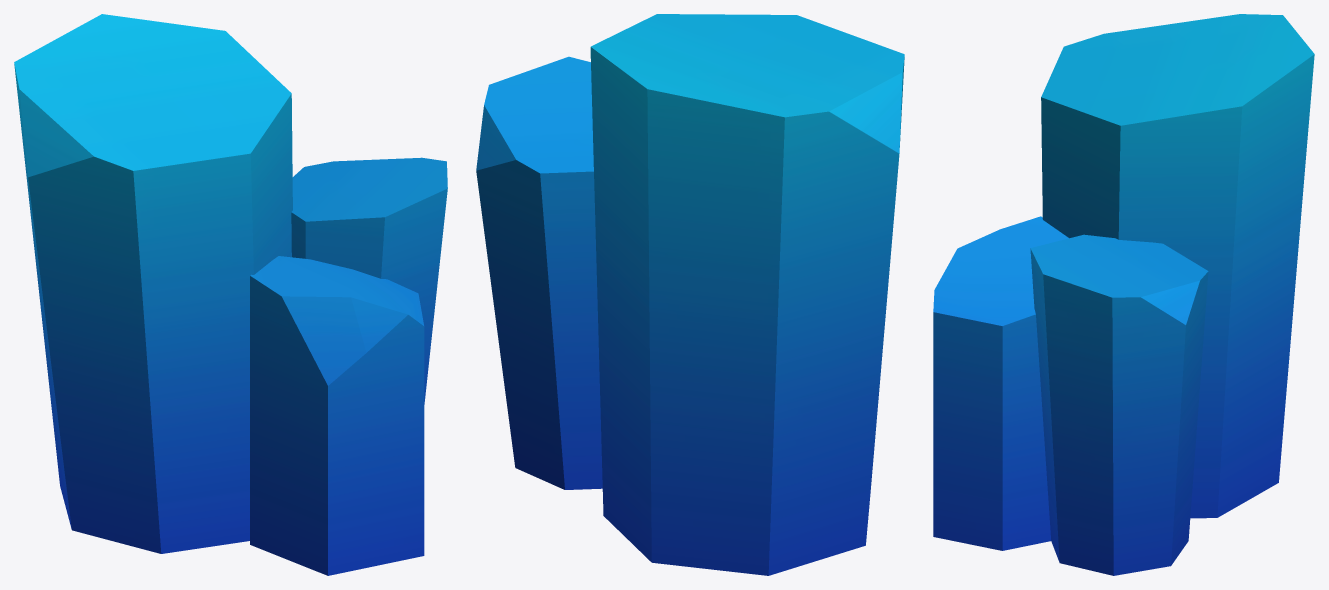
Rendered from deep.glb.
3 views of the same model, side by side, from view 1: azimuth 30°, elevation 25°; view 2: azimuth 150°, elevation 25°; view 3: azimuth 270°, elevation 25° (orthographic). The views are drawn at different scales.
Visible parts, largest first — view 1: crystal_3; view 2: crystal_3; view 3: crystal_3.
Part boxes in pixels (x1,y1,x2,y2): crystal_3: [14, 14, 447, 575]; crystal_3: [476, 14, 904, 575]; crystal_3: [933, 14, 1314, 575].
Bounding box in the file's own units: 4.97 × 5.26 × 4.31.
Materials: 1 (1 with a texture image).
